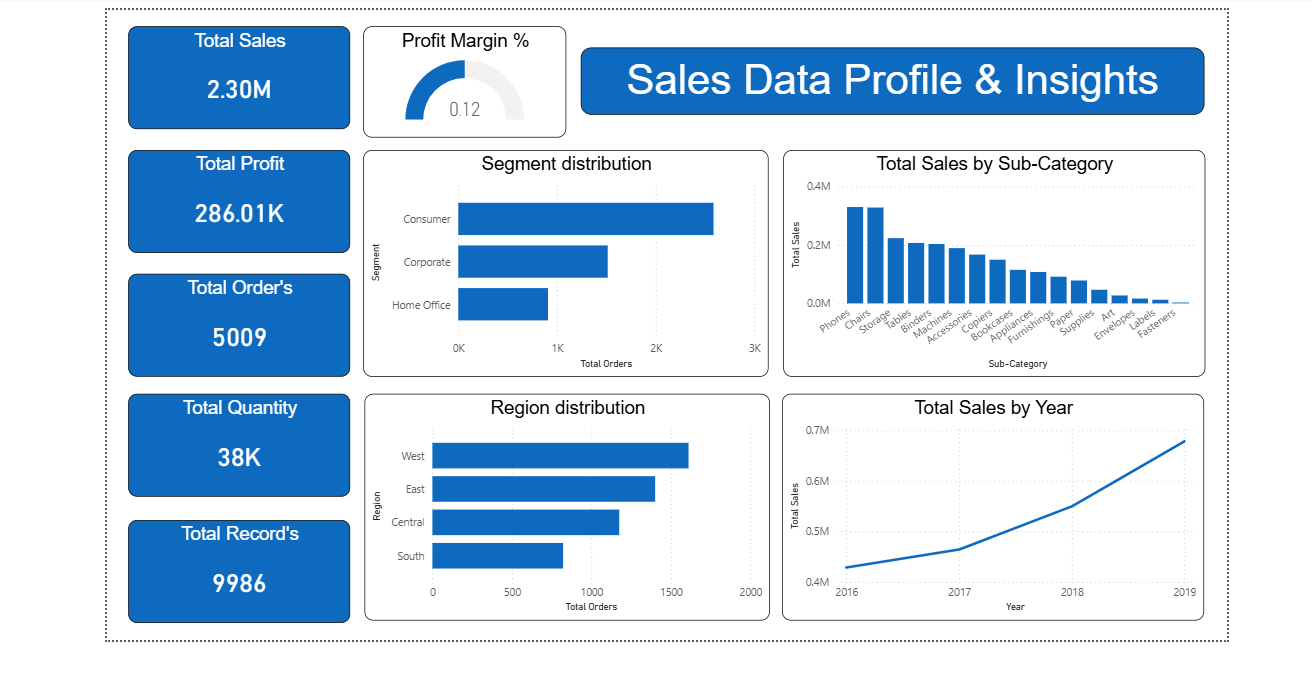

What the dashboard file says about the page in this screenshot:
{"tool":"powerbi","page":{"name":"Page 1","canvas":[1280,720],"ordinal":0},"visuals":[{"type":"card","title":"Total Sales","fields":{"Values":["All Measures.Total Sales"]},"box":[24.3,18.9,253.9,117.5],"z":0},{"type":"card","title":"Total Profit","fields":{"Values":["All Measures.Total Profit"]},"box":[24.3,159.4,253.9,117.5],"z":1000},{"type":"card","title":"Total Order''s","fields":{"Values":["All Measures.Total Orders"]},"box":[24.3,301.2,253.9,117.5],"z":2000},{"type":"card","title":"Total Quantity","fields":{"Values":["All Measures.Total Quantity"]},"box":[24.3,438.9,253.9,117.5],"z":3000},{"type":"card","title":"Total Record''s","fields":{"Values":["All Measures.Record Count"]},"box":[24.3,583.4,253.9,117.5],"z":4000},{"type":"barChart","title":"Segment distribution","fields":{"Category":["Sales.Segment"],"Y":["All Measures.Total Orders"]},"box":[293.1,159.4,463.2,259.3],"z":5000},{"type":"barChart","title":"Region distribution","fields":{"Y":["All Measures.Total Orders"],"Category":["Sales.Region"]},"box":[294.4,438.9,463.2,259.3],"z":6000},{"type":"columnChart","fields":{"Category":["Sales.Sub-Category"],"Y":["All Measures.Total Sales"]},"box":[772.5,159.4,482.1,259.3],"z":7000},{"type":"lineChart","fields":{"Y":["All Measures.Total Sales"],"Category":["Sales.Order Date.Variation.Date Hierarchy.Year"]},"box":[772,439,482,259],"z":8000},{"type":"gauge","fields":{"Y":["All Measures.Profit Margin %"]},"box":[293.1,18.9,232.3,126.9],"z":9000},{"type":"textbox","title":"Sales Data Profile & Insights","box":[541.6,43.2,713.1,77],"z":10000}]}

Visuals, with their boxes on the page's 1280x720 design canvas (x1, y1, x2, y2). These are canvas units, not pixel positions in the 1312x687 screenshot, which may show the page scaled, cropped or inside an application window:
"Total Sales" card: 24/19/278/136
"Total Profit" card: 24/159/278/277
"Total Order''s" card: 24/301/278/419
"Total Quantity" card: 24/439/278/556
"Total Record''s" card: 24/583/278/701
"Segment distribution" barChart: 293/159/756/419
"Region distribution" barChart: 294/439/758/698
columnChart - Sales.Sub-Category x All Measures.Total Sales: 772/159/1255/419
lineChart - All Measures.Total Sales x Sales.Order Date.Variation.Date Hierarchy.Year: 772/439/1254/698
gauge - All Measures.Profit Margin %: 293/19/525/146
"Sales Data Profile & Insights" textbox: 542/43/1255/120
